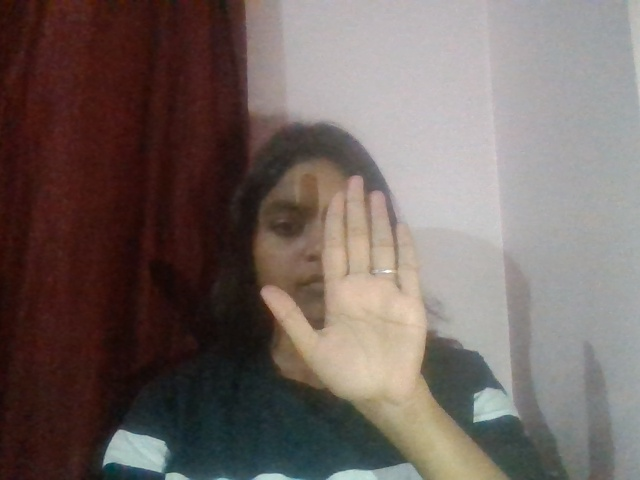Hello: (244, 177, 523, 425)
